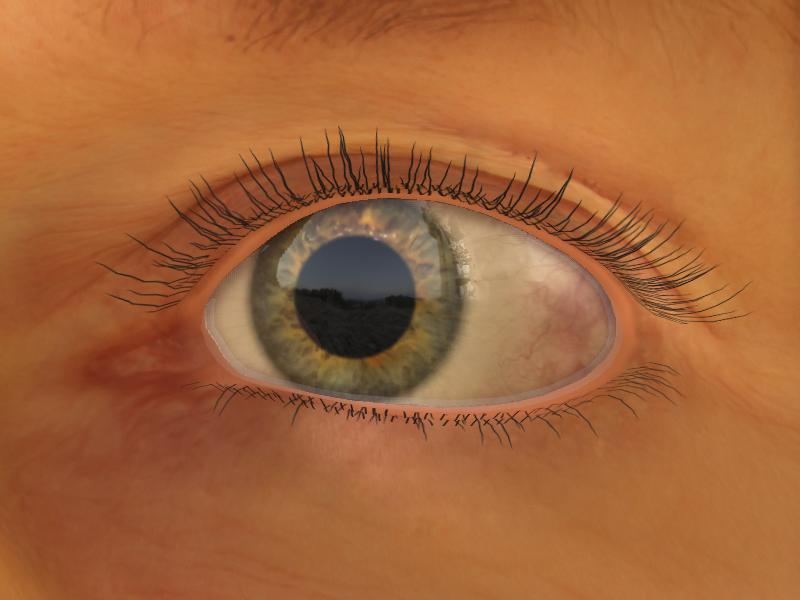eye: (254, 196, 457, 401)
